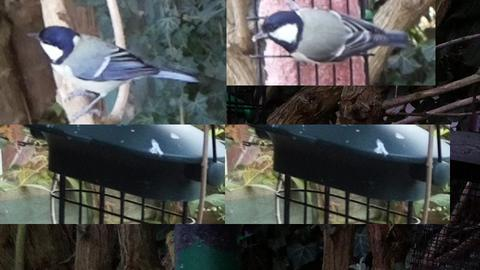great tit: (25, 25, 202, 124), (252, 7, 410, 64)
